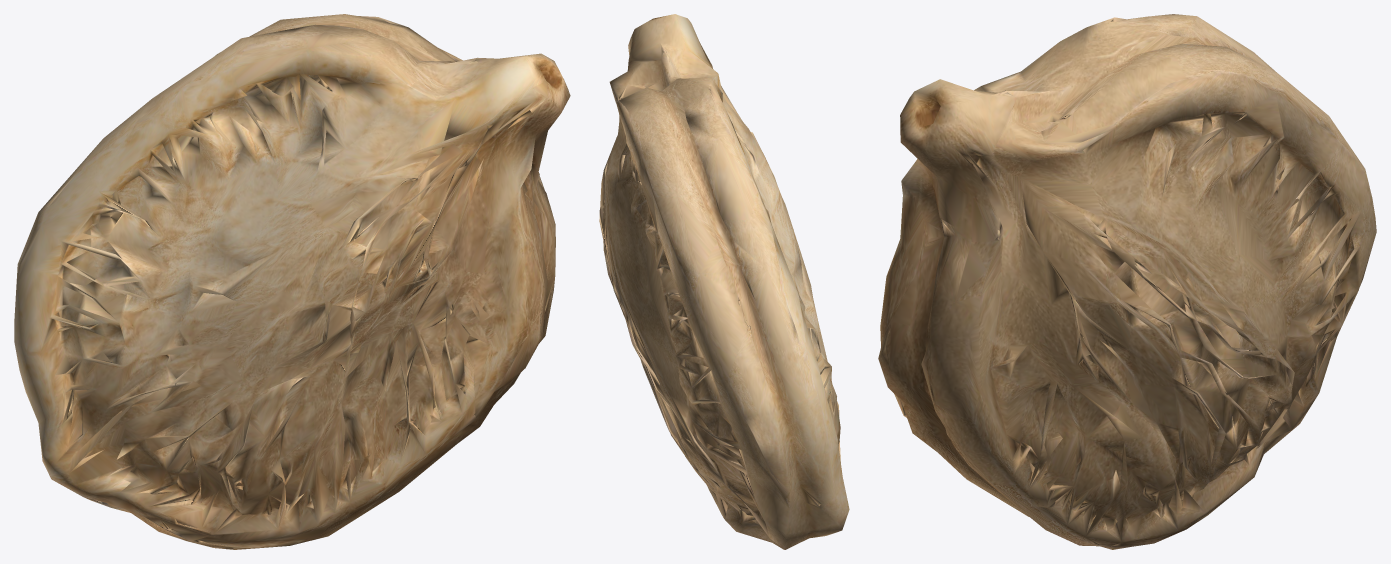
Rendered from seed.glb.
3 views of the same model, side by side, from view 1: azimuth 30°, elevation 25°; view 2: azimuth 150°, elevation 25°; view 3: azimuth 270°, elevation 25° (orthographic). The views are drawn at different scales.
Parts seen in each view (by area): view 1: tripo_node_5847a625-de66-4401-8e4f-60ba6ef0c32c; view 2: tripo_node_5847a625-de66-4401-8e4f-60ba6ef0c32c; view 3: tripo_node_5847a625-de66-4401-8e4f-60ba6ef0c32c.
Boxes of the visible parts, x1=… form: tripo_node_5847a625-de66-4401-8e4f-60ba6ef0c32c: x1=14, y1=14, x2=570, y2=549; tripo_node_5847a625-de66-4401-8e4f-60ba6ef0c32c: x1=599, y1=14, x2=849, y2=549; tripo_node_5847a625-de66-4401-8e4f-60ba6ef0c32c: x1=878, y1=14, x2=1376, y2=549.
Bounding box in the file's own units: 0.8081 × 0.983 × 0.7975.
1 material, 1 textured.
